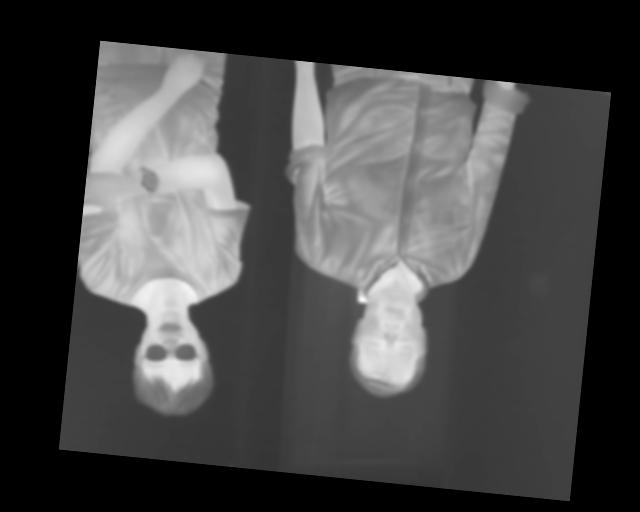face: (344, 279, 433, 403), (127, 304, 218, 419)
